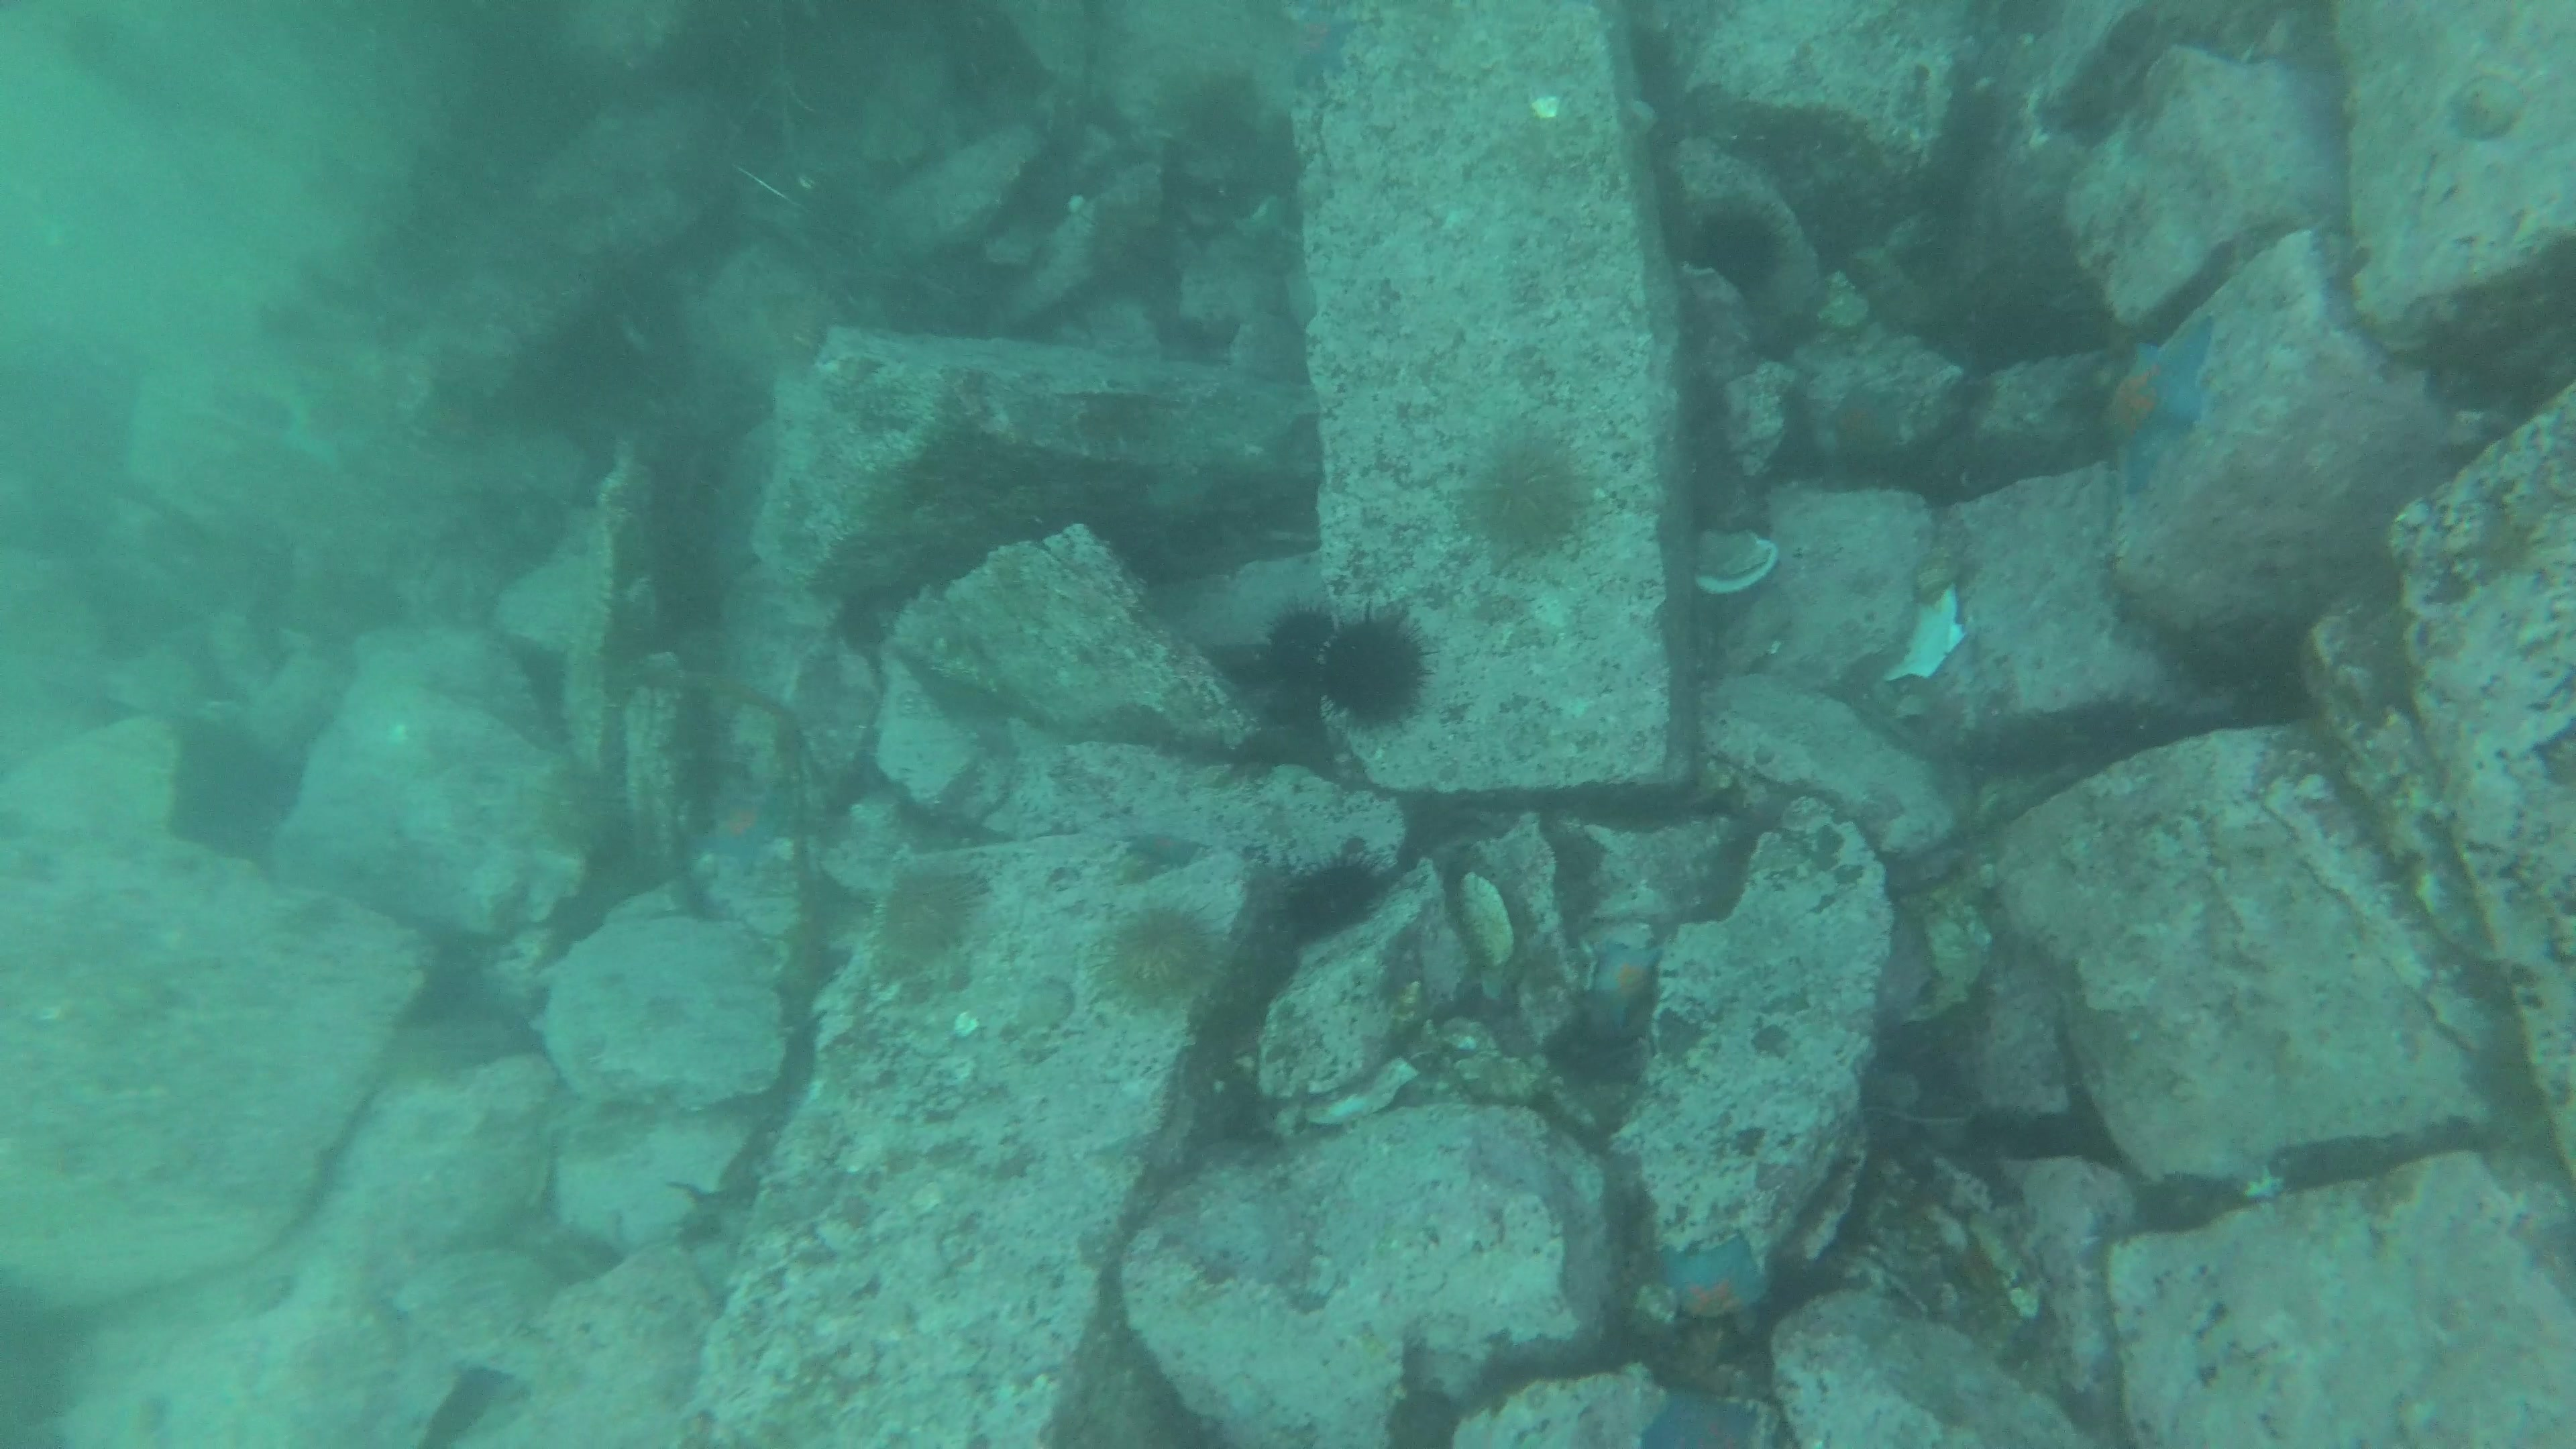echinus: (1463, 439, 1603, 563), (184, 725, 299, 821), (1166, 64, 1269, 161), (1325, 619, 1435, 708), (1108, 906, 1210, 1000), (1688, 196, 1783, 288), (1274, 851, 1394, 924), (885, 872, 973, 947), (1261, 612, 1313, 683)
scallop: (1882, 575, 1976, 692), (1454, 860, 1527, 975), (1690, 518, 1783, 591)
starfish: (2091, 322, 2219, 490), (692, 771, 794, 872), (1663, 1244, 1783, 1327), (1585, 931, 1654, 1019)
